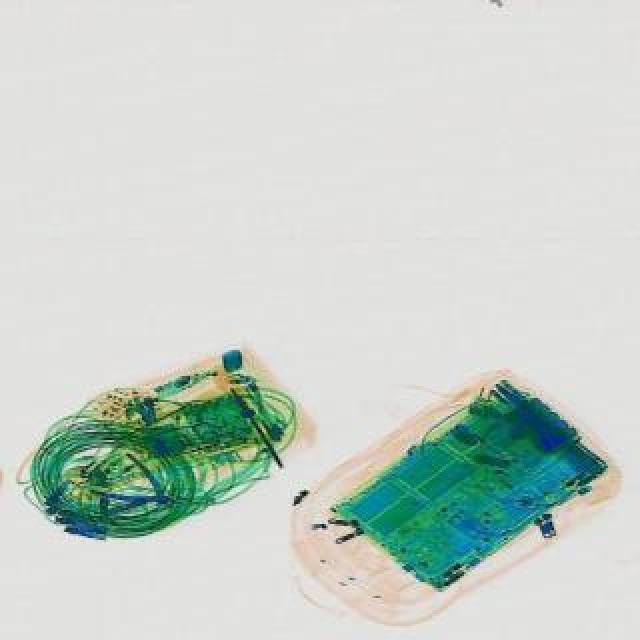wrench: (86, 446, 190, 530)
